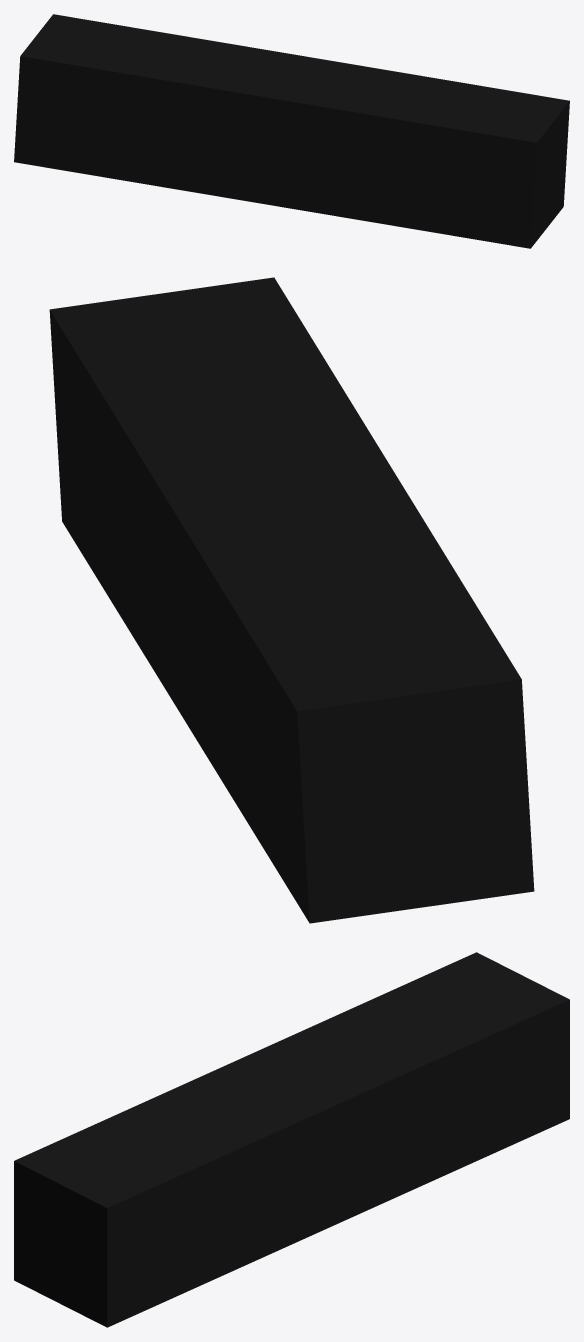
File: frame__seat_upright_0.glb
3 renders of one model, top to bottom at view 1: azimuth 30°, elevation 25°; view 2: azimuth 150°, elevation 25°; view 3: azimuth 270°, elevation 25°, orthographic. The views are drawn at different scales.
Visible parts, largest first — view 1: world; view 2: world; view 3: world.
Part boxes in pixels (<box>): world: <box>14,14,569,248</box>; world: <box>49,277,534,923</box>; world: <box>14,952,569,1327</box>.
Size of the model in its own units: 0.1994 by 0.0622 by 0.2043.
1 material, 1 textured.
